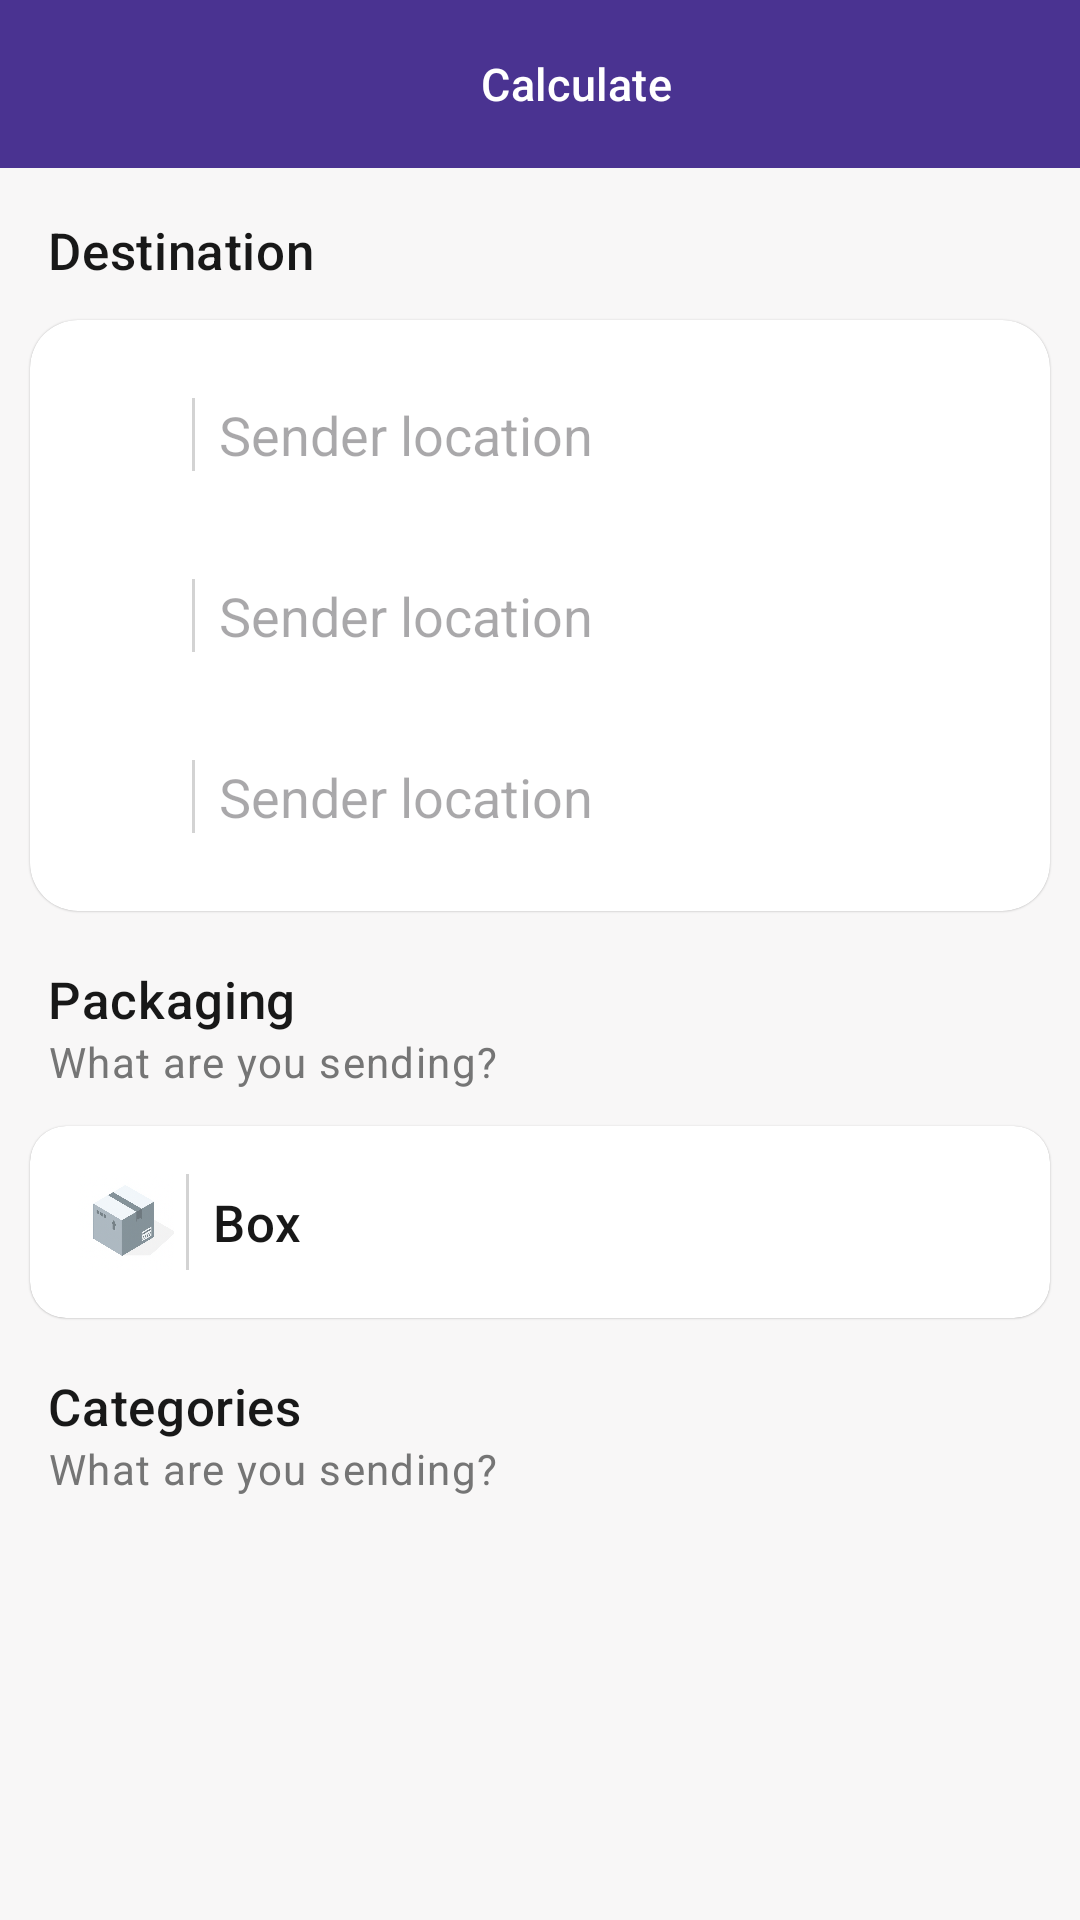

Icons on this 1080px x 1920px Android screen, each with its box as (x1, y1, x2, y2):
delivery parcel: (93, 1192, 154, 1256)
